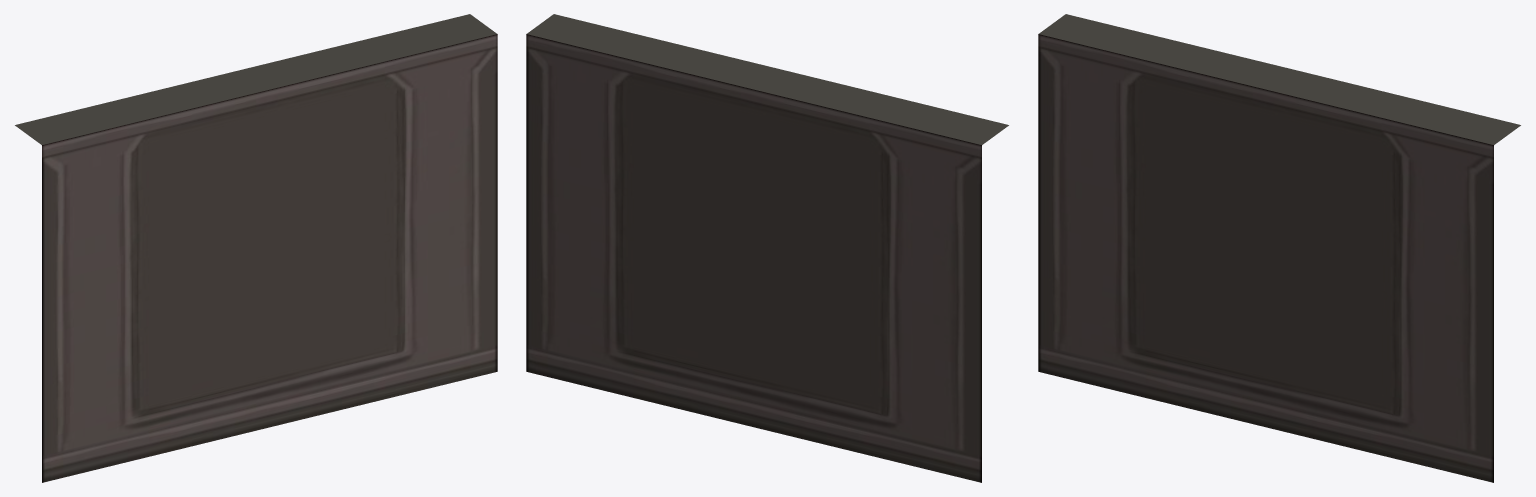
Rendered from env_wall_in.glb.
3 views of the same model, side by side, from view 1: azimuth 30°, elevation 25°; view 2: azimuth 150°, elevation 25°; view 3: azimuth 330°, elevation 25° (orthographic).
Parts seen in each view (by area): view 1: env_wall_in_mesh; view 2: env_wall_in_mesh; view 3: env_wall_in_mesh.
Part boxes in pixels (box(x1,y1,x2,y2)): env_wall_in_mesh: box(15, 14, 497, 482); env_wall_in_mesh: box(526, 14, 1008, 482); env_wall_in_mesh: box(1038, 14, 1520, 482).
Size of the model in its own units: 0.48 by 0.34 by 0.05.
Materials: 2 (2 with a texture image).
